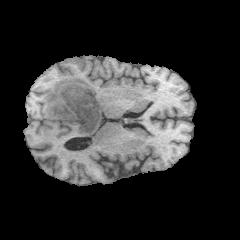glioma: (43, 76, 102, 136)
